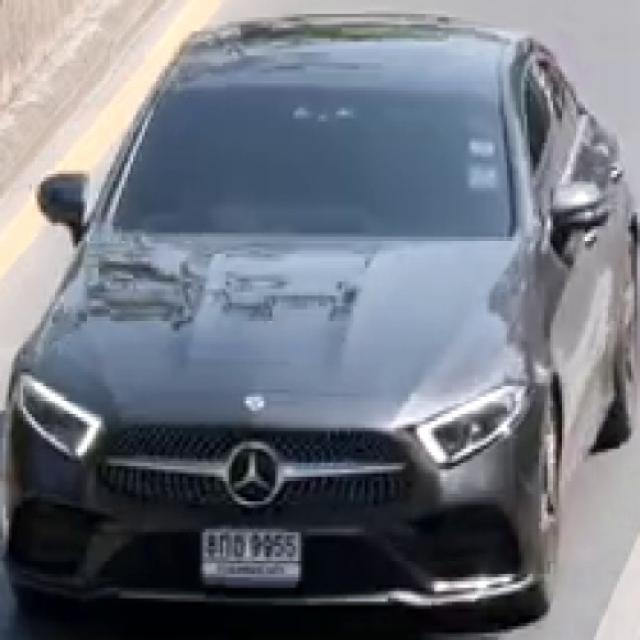plate: (202, 528, 302, 588)
